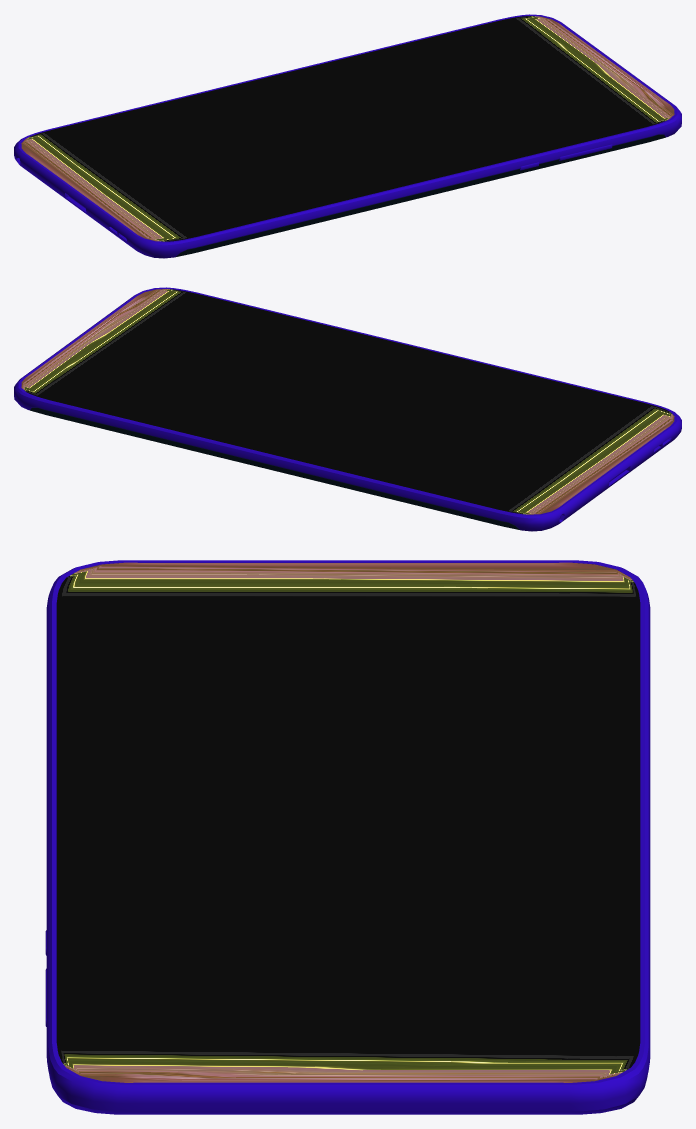
The model's file is smartphone 2.glb.
3 renders of one model, top to bottom at view 1: azimuth 30°, elevation 25°; view 2: azimuth 150°, elevation 25°; view 3: azimuth 270°, elevation 25°, orthographic. The views are drawn at different scales.
Parts seen in each view (by area): view 1: 02 tela, Asus Zenfone Max pro; view 2: 02 tela, Asus Zenfone Max pro; view 3: 02 tela, Asus Zenfone Max pro.
Part boxes in pixels (x1,y1,x2,y2): 02 tela: (21, 16, 674, 241); Asus Zenfone Max pro: (14, 14, 681, 258); 02 tela: (21, 289, 674, 514); Asus Zenfone Max pro: (14, 287, 681, 531); 02 tela: (56, 562, 640, 1082); Asus Zenfone Max pro: (46, 560, 650, 1114).
Size of the model in its own units: 0.1566 by 0.00497 by 0.0753.
5 materials, 1 textured.
